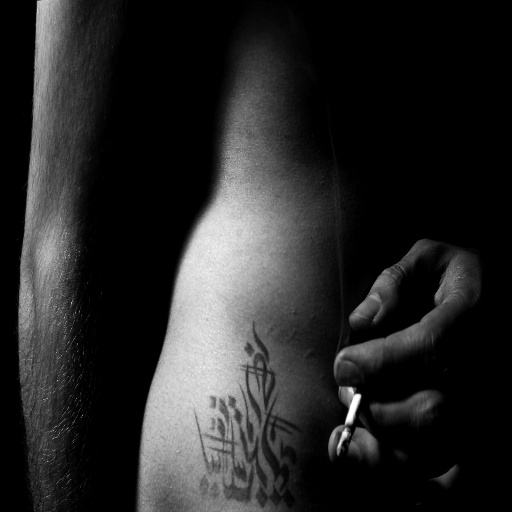hand: (321, 216, 494, 493)
